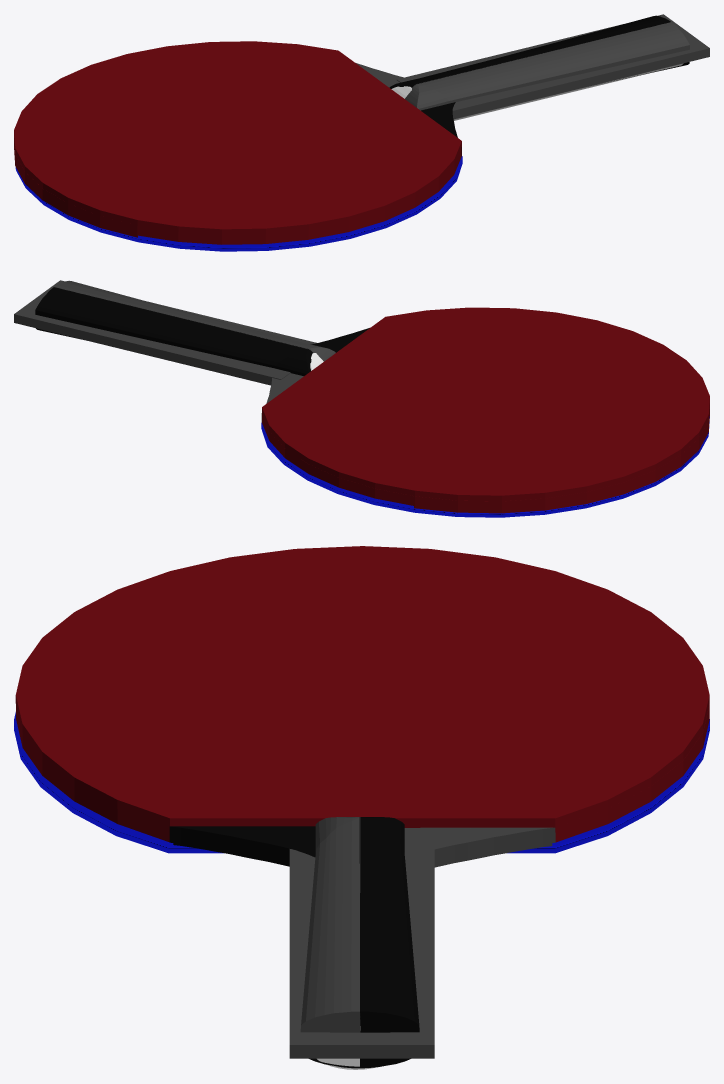
The model's file is racket4.glb.
3 renders of one model, top to bottom at view 1: azimuth 30°, elevation 25°; view 2: azimuth 150°, elevation 25°; view 3: azimuth 270°, elevation 25°, orthographic. The views are drawn at different scales.
Visible parts, largest first — view 1: Цилиндр.002, верх рукоятки, Цилиндр, Плоскость, Цилиндр.001, пред. рукоять, рукоятка.004; view 2: Цилиндр.002, верх рукоятки, Цилиндр, Плоскость, Цилиндр.001, пред. рукоять.001, пред. рукоять; view 3: Цилиндр.002, верх рукоятки, Плоскость, Цилиндр, Цилиндр.001, пред. рукоять, пред. рукоять.001.
Part boxes in pixels (x1,y1,x2,y2): Цилиндр.002: (14,41,461,234); верх рукоятки: (389,15,689,110); Цилиндр: (14,136,461,244); Плоскость: (396,14,709,119); Цилиндр.001: (15,156,462,251); пред. рукоять: (421,102,461,155); рукоятка.004: (453,63,683,120); Цилиндр.002: (262,307,709,501); верх рукоятки: (35,280,335,376); Цилиндр: (262,404,709,513); Плоскость: (14,280,316,385); Цилиндр.001: (261,416,709,517); пред. рукоять.001: (261,373,303,422); пред. рукоять: (311,328,369,352); Цилиндр.002: (15,546,709,827); верх рукоятки: (300,817,419,1032); Плоскость: (289,841,434,1058); Цилиндр: (16,704,709,842); Цилиндр.001: (14,712,709,853); пред. рукоять: (169,826,315,866); пред. рукоять.001: (404,827,555,867).
Size of the model in its own units: 4.24 by 0.2437 by 2.54.
